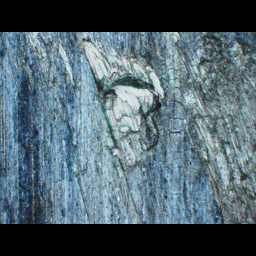d: (78, 34, 171, 175)
